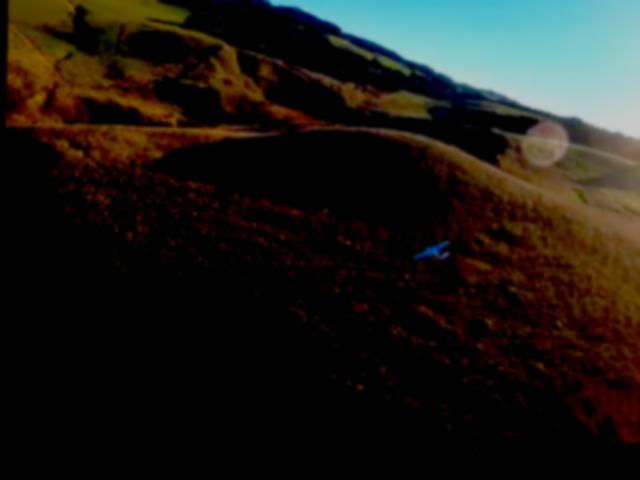uav: (413, 240, 452, 272)
